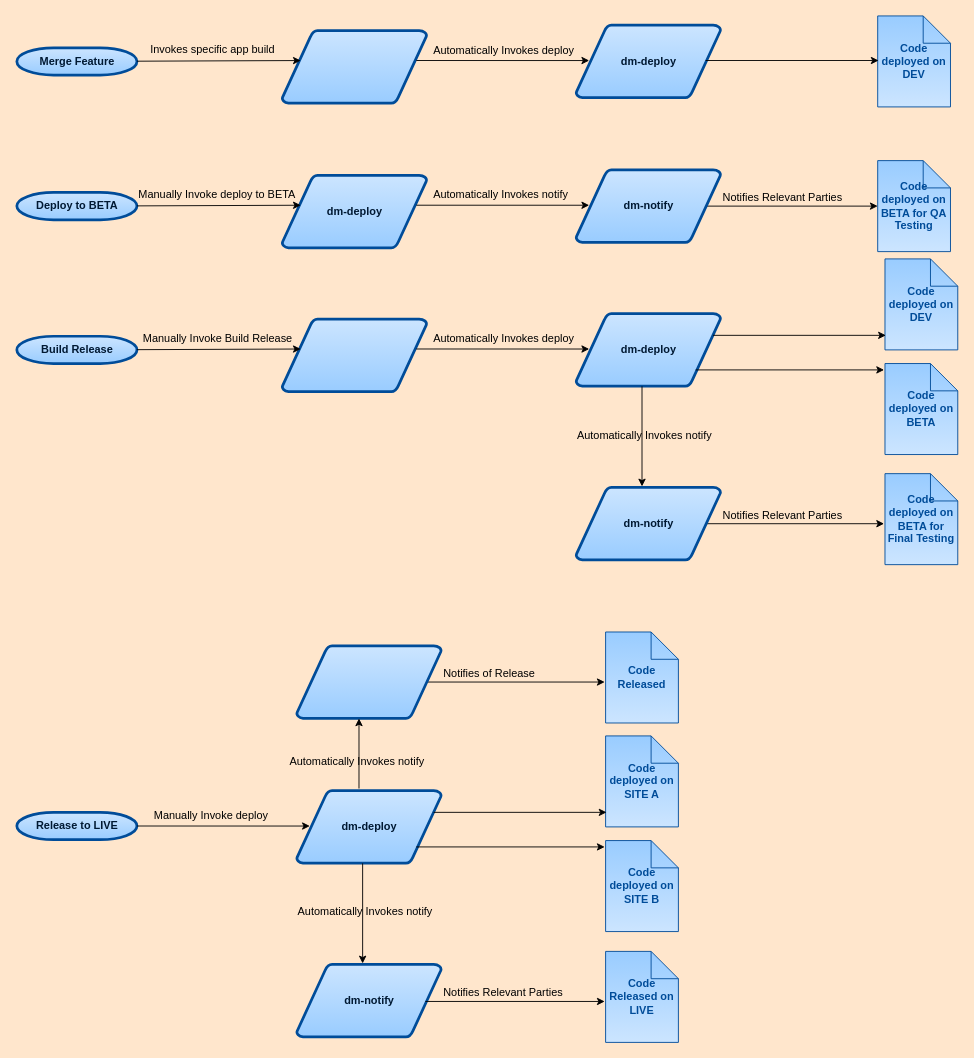
This 974x1058 diagram has some shape labels left out. Here are the shapes that lost their labels. From the top down, the centre of each, then its label:
(354,66): dm-<app>-build
(354,355): dm-release
(368,681): dm-notify-new-relic
